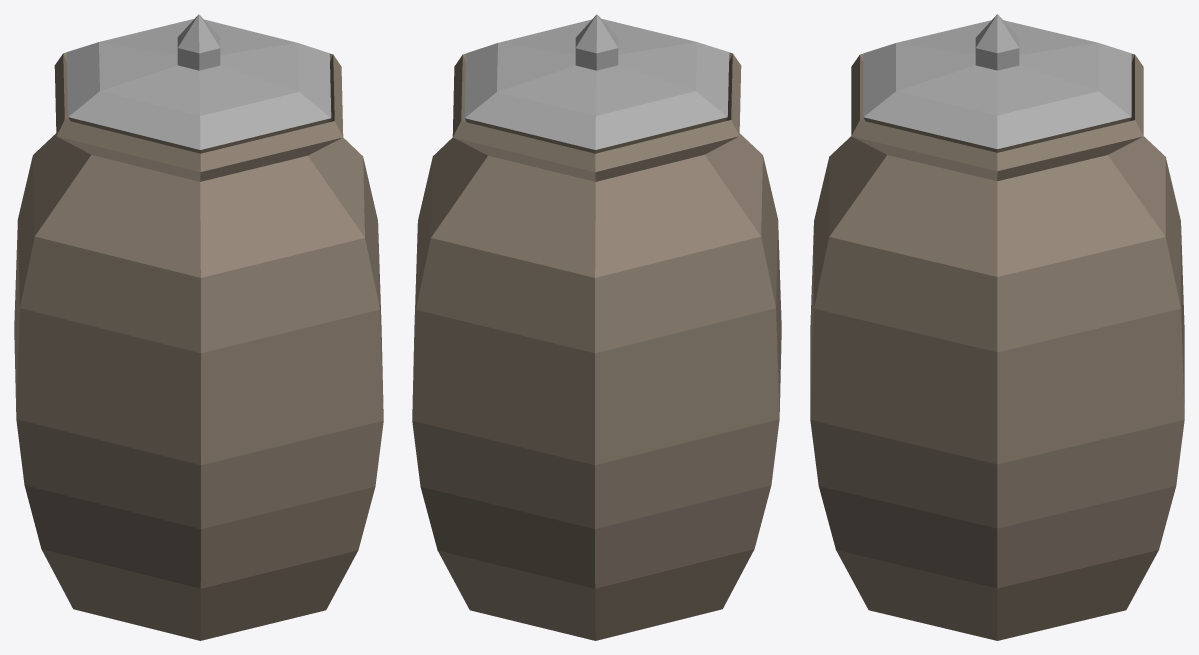
File: urn.fbx
3 views of the same model, side by side, from view 1: azimuth 30°, elevation 25°; view 2: azimuth 150°, elevation 25°; view 3: azimuth 270°, elevation 25° (orthographic).
Parts seen in each view (by area): view 1: lowPolyIceAssets:pCylinder17; view 2: lowPolyIceAssets:pCylinder17; view 3: lowPolyIceAssets:pCylinder17.
Boxes of the visible parts, x1,y1,x2,y2 form: lowPolyIceAssets:pCylinder17: [14, 14, 383, 640]; lowPolyIceAssets:pCylinder17: [412, 14, 781, 640]; lowPolyIceAssets:pCylinder17: [810, 14, 1184, 640].
Size of the model in its own units: 0.0187 by 0.0277 by 0.0166.
